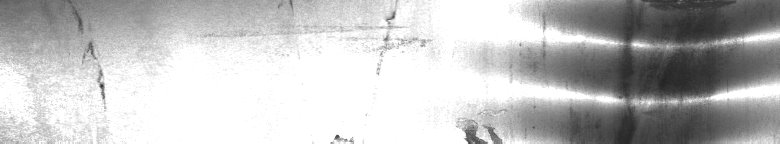ke: (580, 28, 776, 115)
